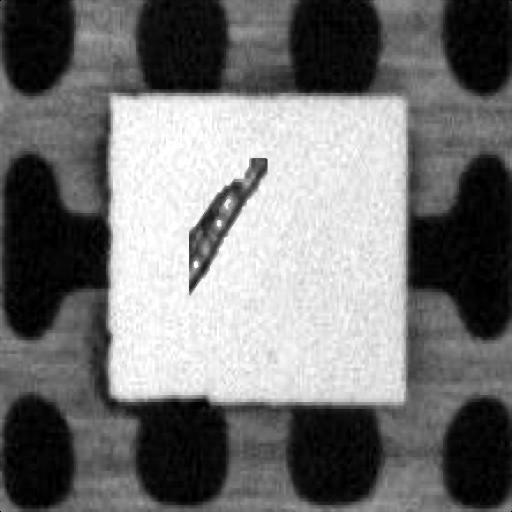DIE_INK: (187, 154, 263, 288)
